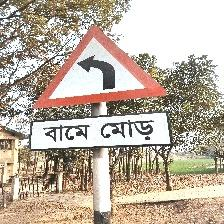Left-Turn: (30, 25, 173, 151)
